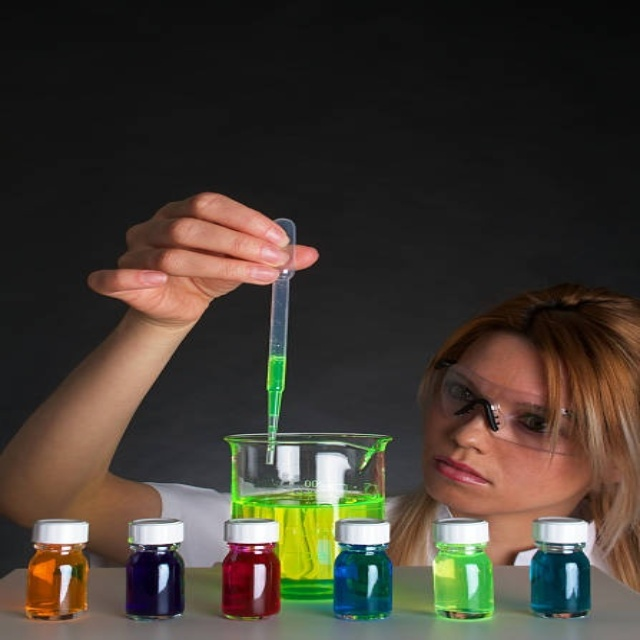Gafas: (434, 361, 582, 448)
Sin_guantes: (87, 192, 317, 329)
Sin_mascara: (427, 450, 515, 503)
